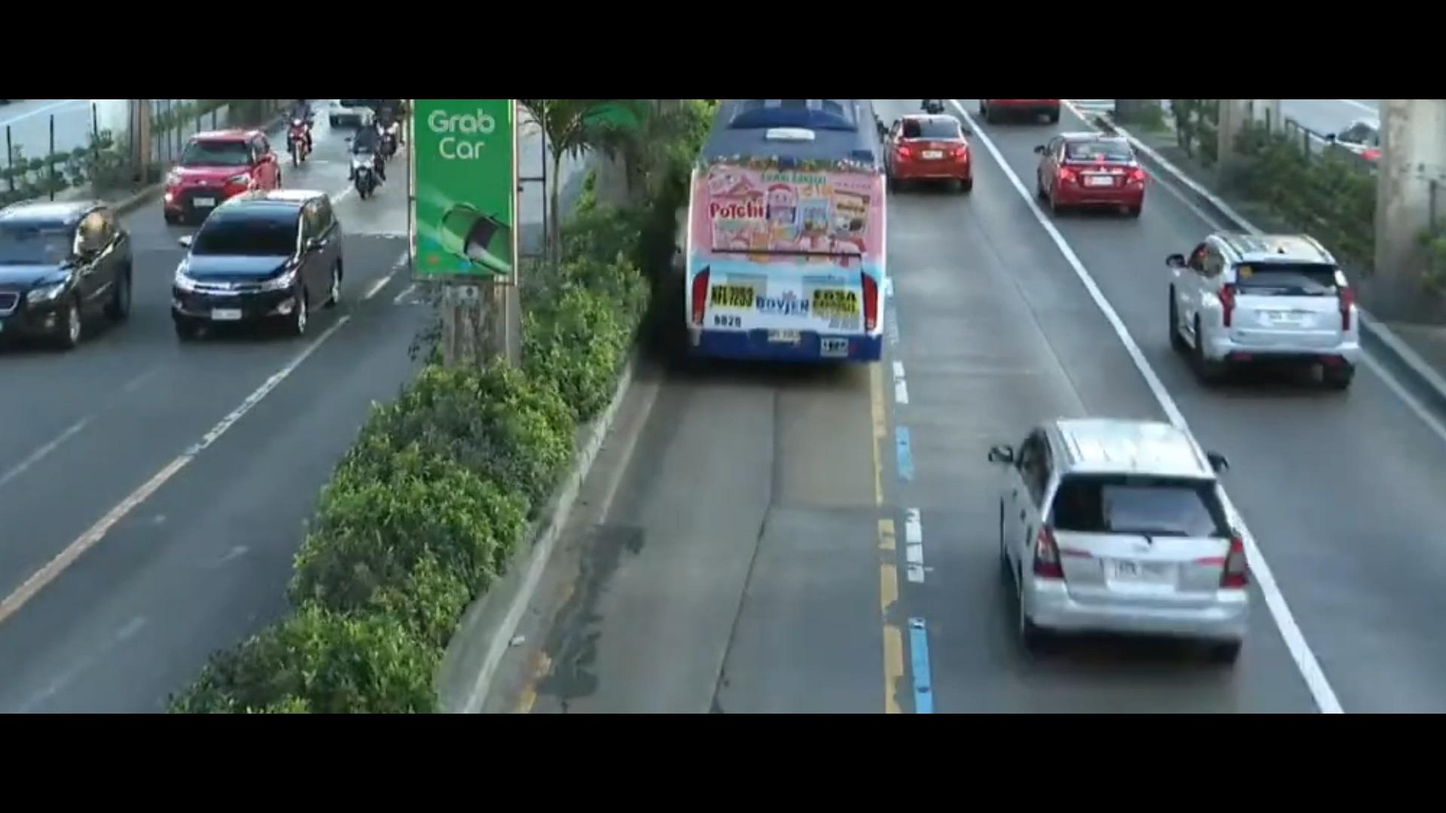Bus: (663, 87, 904, 381)
Motorcycle: (333, 119, 409, 208), (280, 96, 322, 186)
SUV: (979, 382, 1268, 674), (1160, 217, 1391, 402), (158, 172, 345, 352), (0, 185, 140, 365), (151, 110, 275, 229)
Sedan: (1023, 108, 1158, 248), (885, 106, 985, 206)
